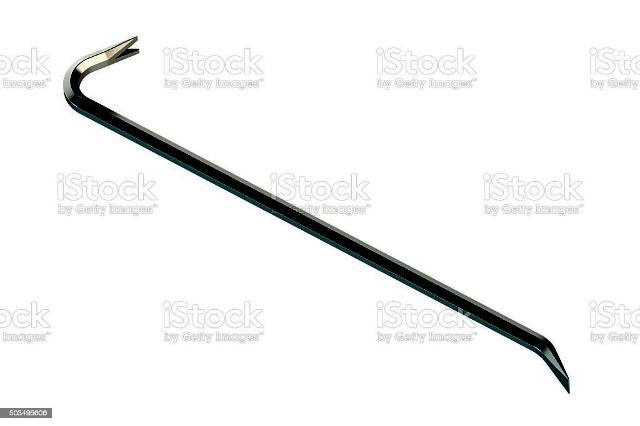crow bar: (57, 35, 575, 401)
